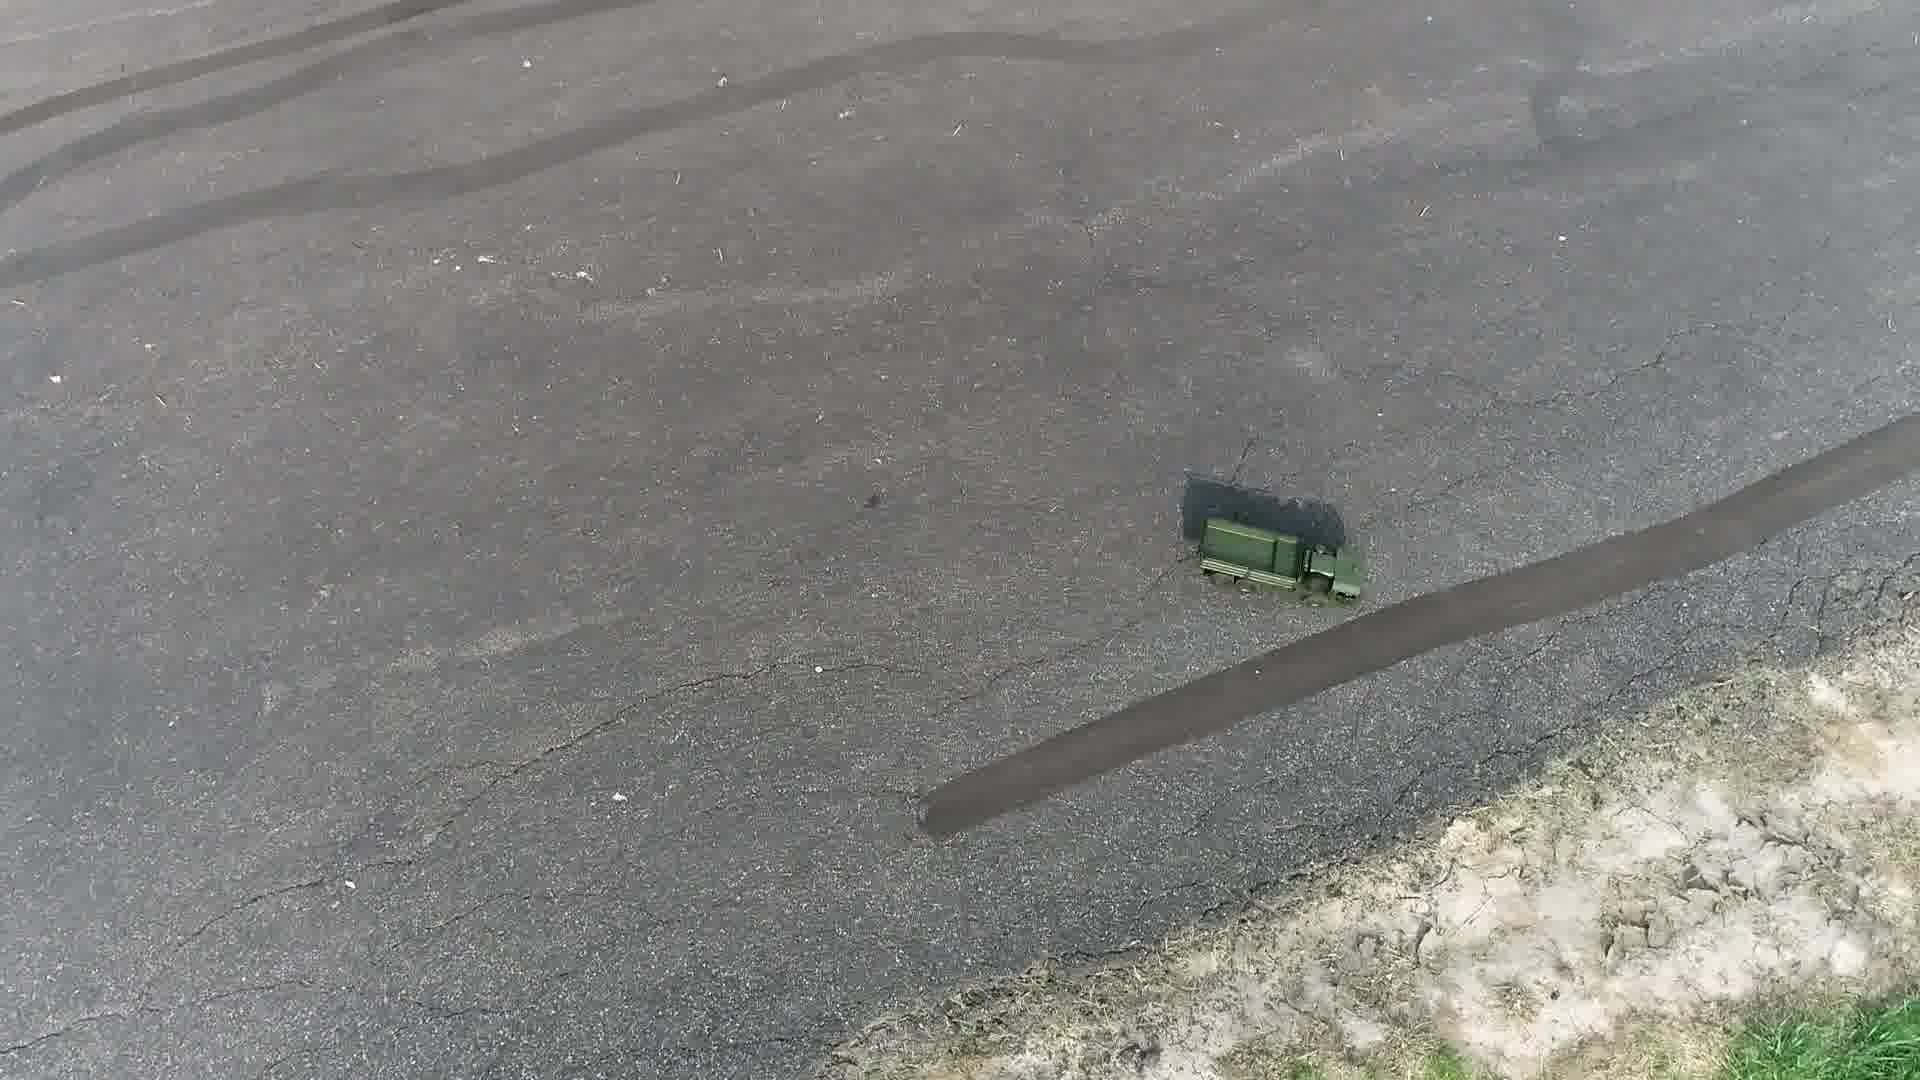transporter9: (1179, 506, 1371, 609)
